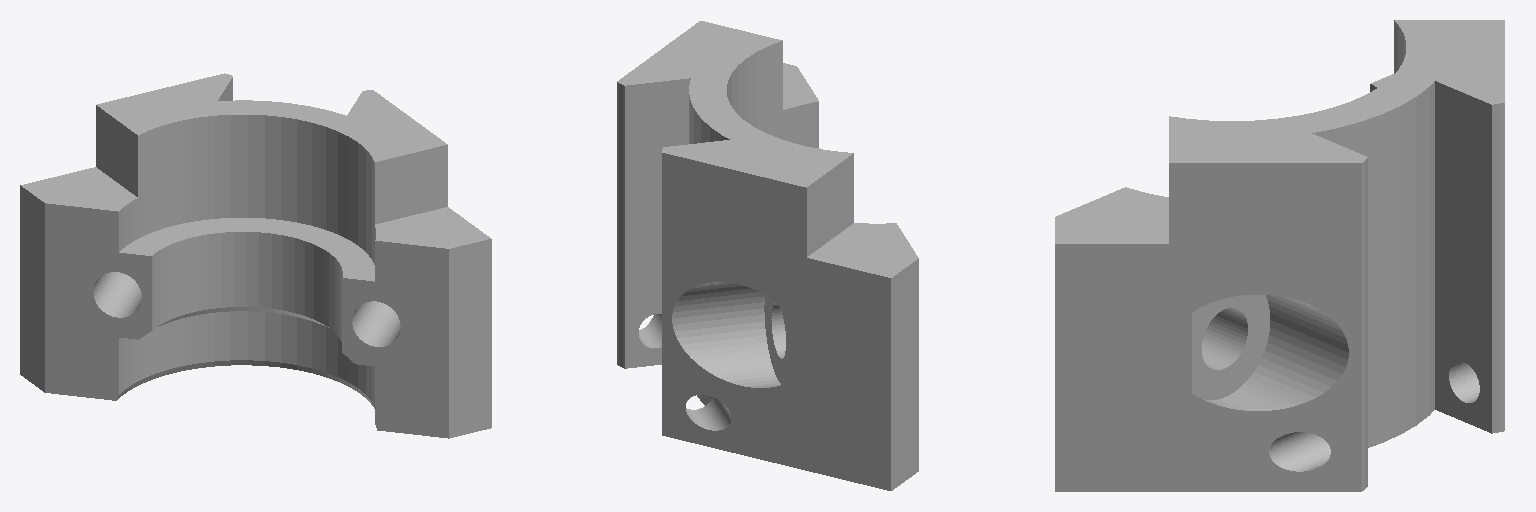
robot.urdf — root:
<?xml version='1.0' encoding='utf-8'?>
<robot name="root">
  <link name="link_001">
    <visual>
      <origin xyz="0 0 0" rpy="0 0 0" />
      <geometry>
        <mesh filename="5575d522c61abba61d75b7c100bdb81853456b431a4d8a3fb83a7dfce6069031_scale_000.stl" scale="1.0000E+00 1.0000E+00 1.0000E+00" />
      </geometry>
      <material name="">
        <color rgba="7.50E-01 7.50E-01 7.50E-01 1" />
      </material>
    </visual>
    <collision>
      <origin xyz="0 0 0" rpy="0 0 0" />
      <geometry>
        <mesh filename="5575d522c61abba61d75b7c100bdb81853456b431a4d8a3fb83a7dfce6069031_scale_000.stl" scale="1.0000E+00 1.0000E+00 1.0000E+00" />
      </geometry>
    </collision>
  </link>
</robot>

--- What the picture shows (computed from the rendered views, not written in the file) ---
3 views of the same robot in one strip: view 1: azimuth 30°, elevation 25°; view 2: azimuth 150°, elevation 25°; view 3: azimuth 270°, elevation 25° (orthographic).
Model root with 1 links and 0 joints (none), rooted at link_001, posed all joints at 0.
Visible links, largest first — view 1: link_001; view 2: link_001; view 3: link_001.
Boxes of the visible links, x1,y1,x2,y2 form: link_001: (20, 73, 491, 438); link_001: (617, 21, 918, 490); link_001: (1055, 20, 1504, 491).
Size in the robot's own frame: 0.0849 by 0.0849 by 0.0684 metres.
Meshes: 1 distinct files referenced, 1 mesh visuals loaded (1 binary STL).
